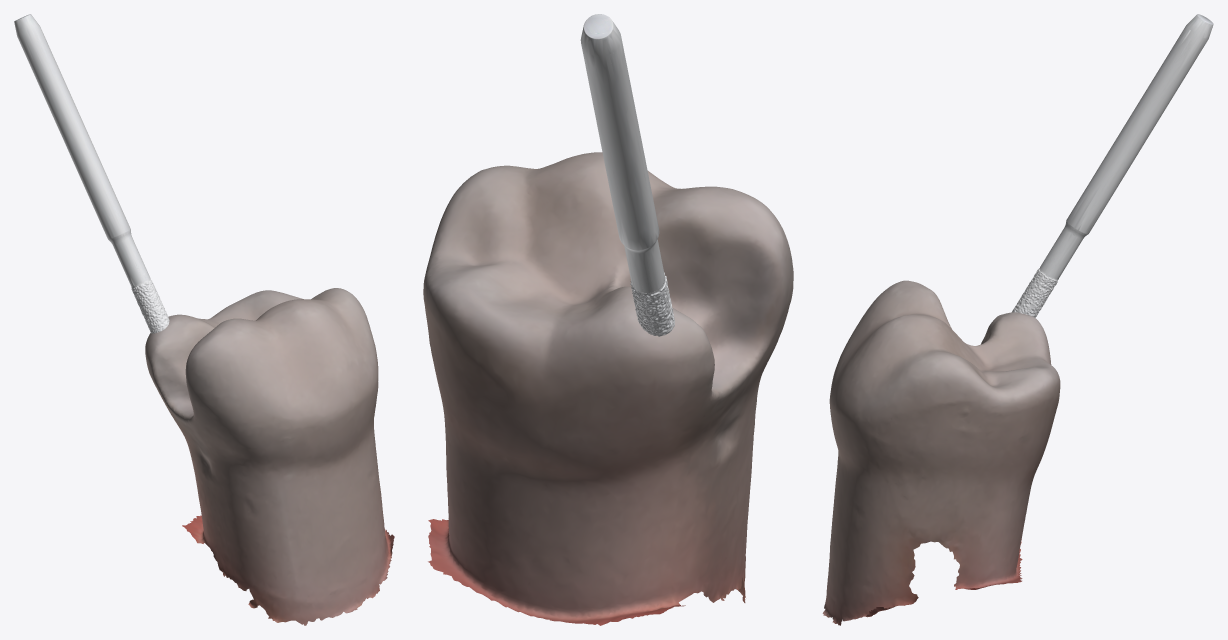
The model's file is 2133_onlay_4.fbx.
3 renders of one model, left to right at view 1: azimuth 30°, elevation 25°; view 2: azimuth 150°, elevation 25°; view 3: azimuth 270°, elevation 25°, orthographic. The views are drawn at different scales.
Parts seen in each view (by area): view 1: Diente_high, Mesh_0, Mesh_0.001; view 2: Diente_high, Mesh_0, Mesh_0.001; view 3: Diente_high, Mesh_0, Mesh_0.001.
Boxes of the visible parts, bbox=[...] form: Diente_high: bbox=[145, 288, 394, 625]; Mesh_0: bbox=[14, 14, 150, 286]; Mesh_0.001: bbox=[131, 278, 169, 333]; Diente_high: bbox=[423, 152, 793, 625]; Mesh_0: bbox=[580, 14, 664, 292]; Mesh_0.001: bbox=[630, 272, 674, 336]; Diente_high: bbox=[822, 280, 1060, 625]; Mesh_0: bbox=[1040, 14, 1213, 278]; Mesh_0.001: bbox=[1012, 268, 1058, 317].
Bounding box in the file's own units: 139 × 300 × 201.
2 materials, 2 textured.
